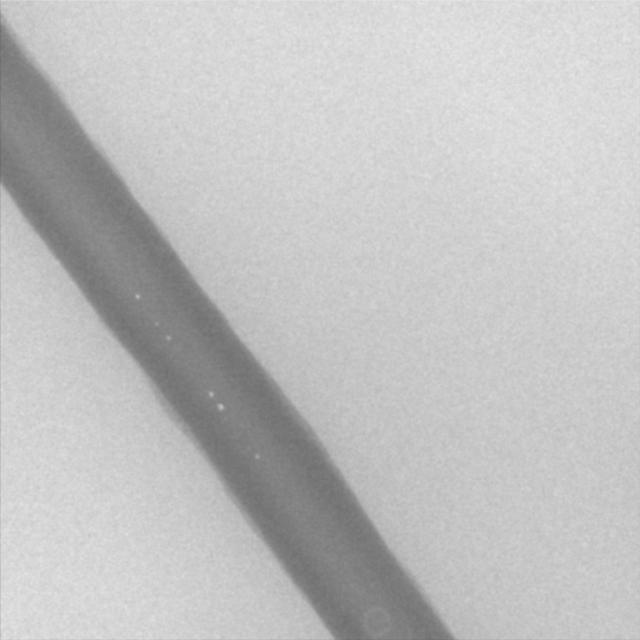air hole: (206, 389, 215, 400), (133, 291, 142, 301), (164, 333, 173, 342), (217, 401, 225, 411), (253, 450, 260, 460)
hollow bead: (361, 604, 391, 636)
